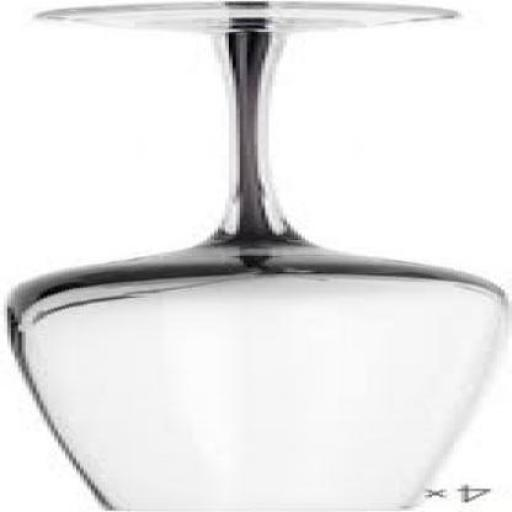glass: (14, 5, 510, 511)
